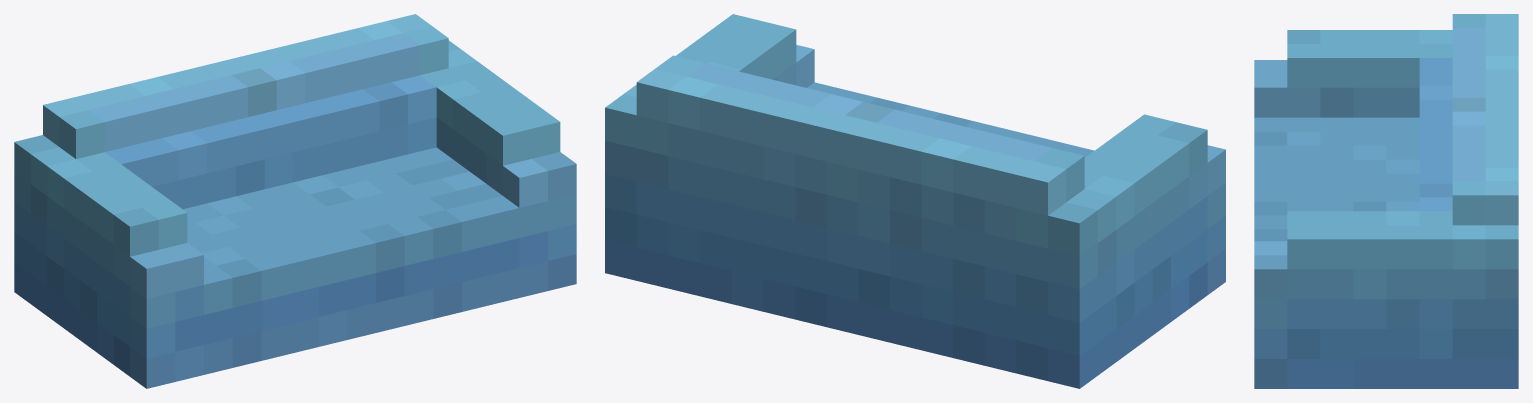
Rendered from couch.glb.
The picture shows the model from 3 angles, left to right: view 1: azimuth 30°, elevation 25°; view 2: azimuth 150°, elevation 25°; view 3: azimuth 270°, elevation 25°; orthographic projection. The views are drawn at different scales.
Visible parts, largest first — view 1: couch; view 2: couch; view 3: couch.
Part boxes in pixels (bbox=[...]): couch: bbox=[14, 14, 576, 388]; couch: bbox=[605, 14, 1225, 388]; couch: bbox=[1254, 14, 1518, 388].
Bounding box in the file's own units: 3.21 × 1.29 × 1.71.
1 material, 1 textured.
